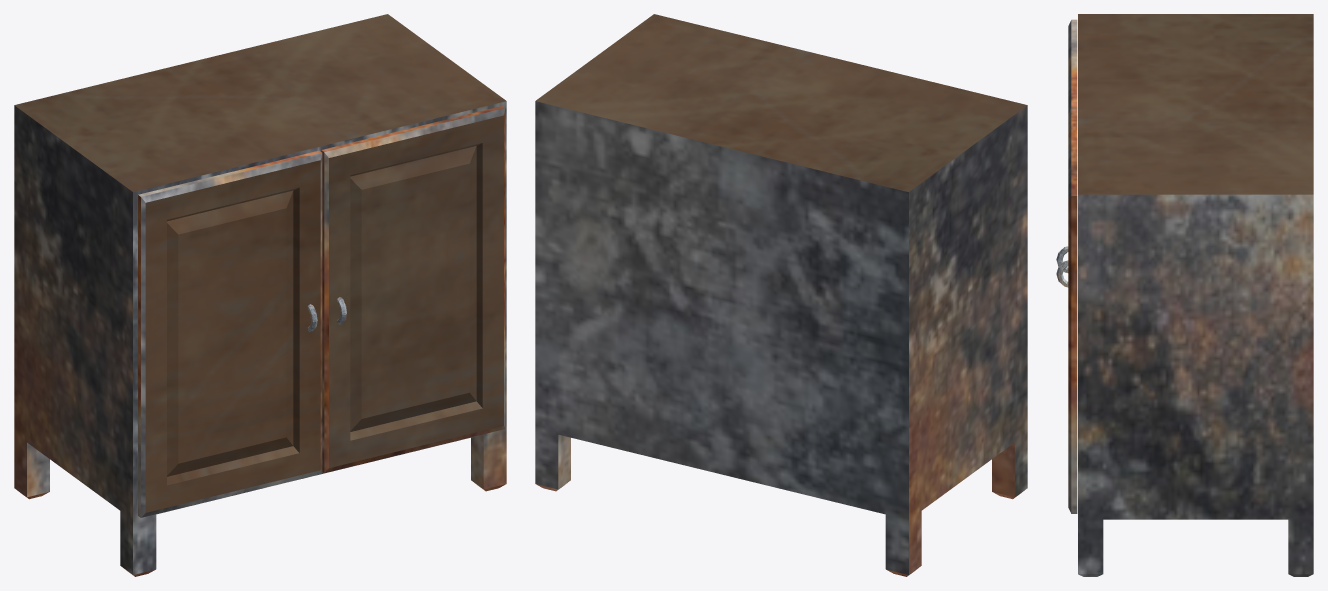
Rendered from cabinet.fbx.
The picture shows the model from 3 angles, left to right: view 1: azimuth 30°, elevation 25°; view 2: azimuth 150°, elevation 25°; view 3: azimuth 270°, elevation 25°; orthographic projection.
Visible parts, largest first — view 1: cabinet; view 2: cabinet; view 3: cabinet.
Boxes of the visible parts, x1=… form: cabinet: x1=14, y1=14, x2=506, y2=576; cabinet: x1=535, y1=14, x2=1027, y2=576; cabinet: x1=1056, y1=14, x2=1313, y2=576.
Bounding box in the file's own units: 49.59 × 49.22 × 29.83.
